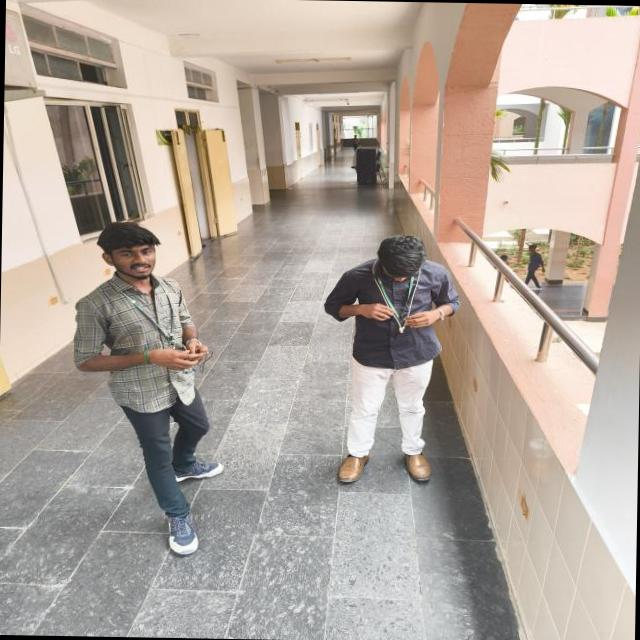id_card: (136, 285, 194, 356), (374, 278, 427, 334)
